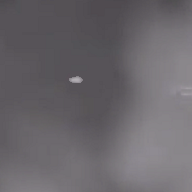Target: (69, 76, 83, 83)
